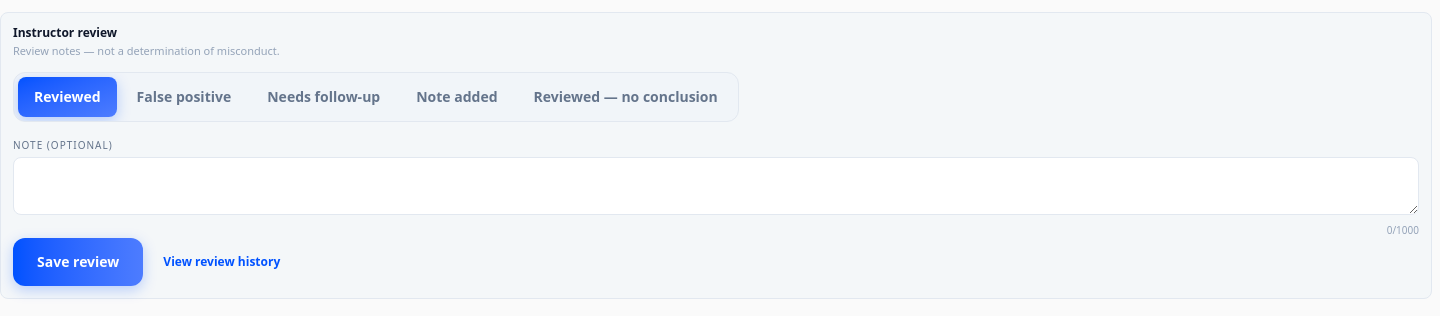
Test case: AlertReviewForm note field › enforces maxLength 1000 with a live counter
Type "abc" into the text box labelled "Note (optional)" at [716, 186], box [13, 156, 1419, 214]
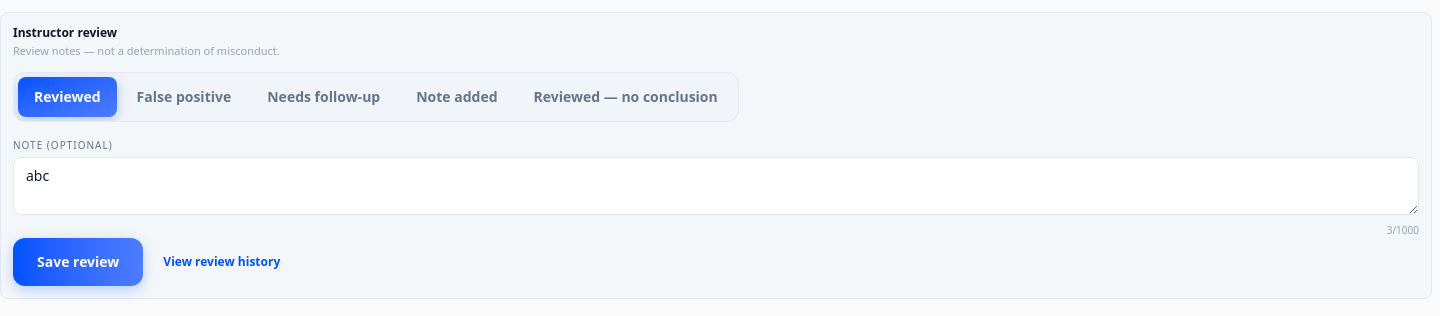
Now the text "3/1000" is shown, box [1387, 222, 1419, 236]
